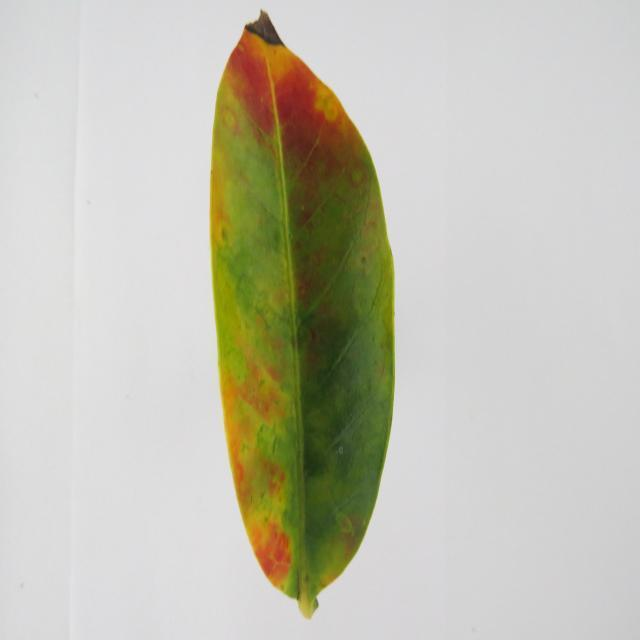DeficienciaNutricional-Fosforo: (210, 12, 394, 618)
